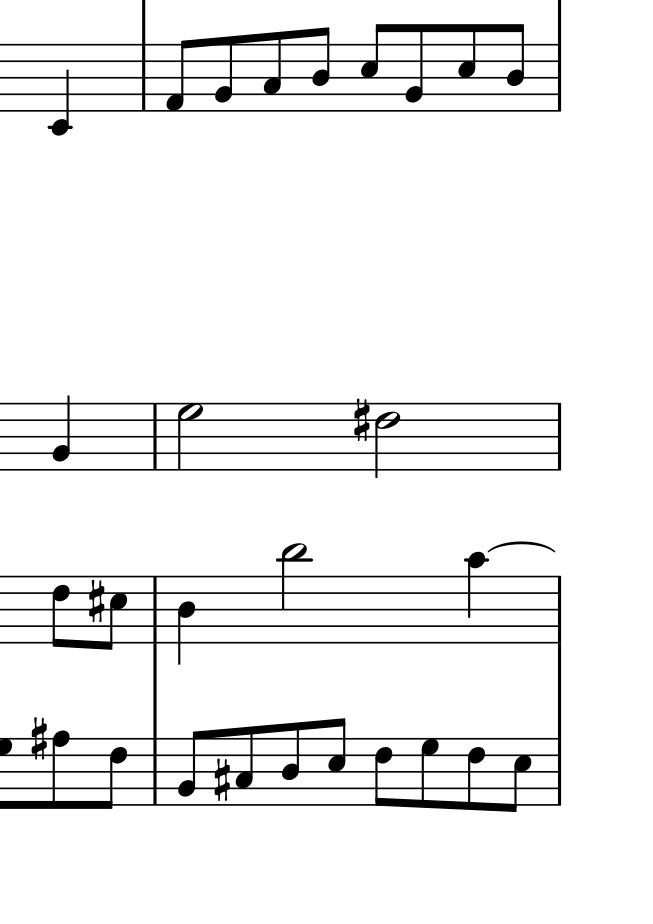2_11: (281, 542, 310, 644)
2_6: (374, 402, 402, 480)
2_7: (177, 402, 204, 473)
4_-2: (48, 42, 75, 136)
4_10: (465, 551, 489, 644)
4_2: (51, 391, 72, 473)
4_4: (176, 572, 200, 667)
8_1: (165, 37, 189, 113)
8_2: (405, 21, 430, 113), (176, 727, 203, 807), (213, 34, 235, 112)
8_3: (260, 30, 285, 113), (234, 725, 257, 806)
8_4: (279, 721, 303, 806), (507, 22, 529, 113), (310, 25, 332, 112)
8_5: (358, 21, 389, 112), (504, 735, 534, 813), (455, 22, 478, 114), (326, 718, 348, 808), (103, 576, 128, 654)
8_6: (100, 735, 128, 812), (371, 737, 393, 809), (466, 736, 486, 811), (50, 574, 70, 648)
8_7: (419, 736, 438, 809)
8_8: (51, 728, 70, 810)
Sharp: (351, 395, 370, 445), (85, 579, 106, 624), (212, 756, 232, 803), (29, 715, 47, 762)
Single_barline: (135, 44, 155, 112), (550, 402, 569, 470), (548, 738, 567, 806), (148, 739, 166, 804), (551, 44, 568, 112), (147, 576, 164, 644), (148, 403, 164, 471), (551, 576, 567, 643)
Slur: (484, 540, 557, 554)
